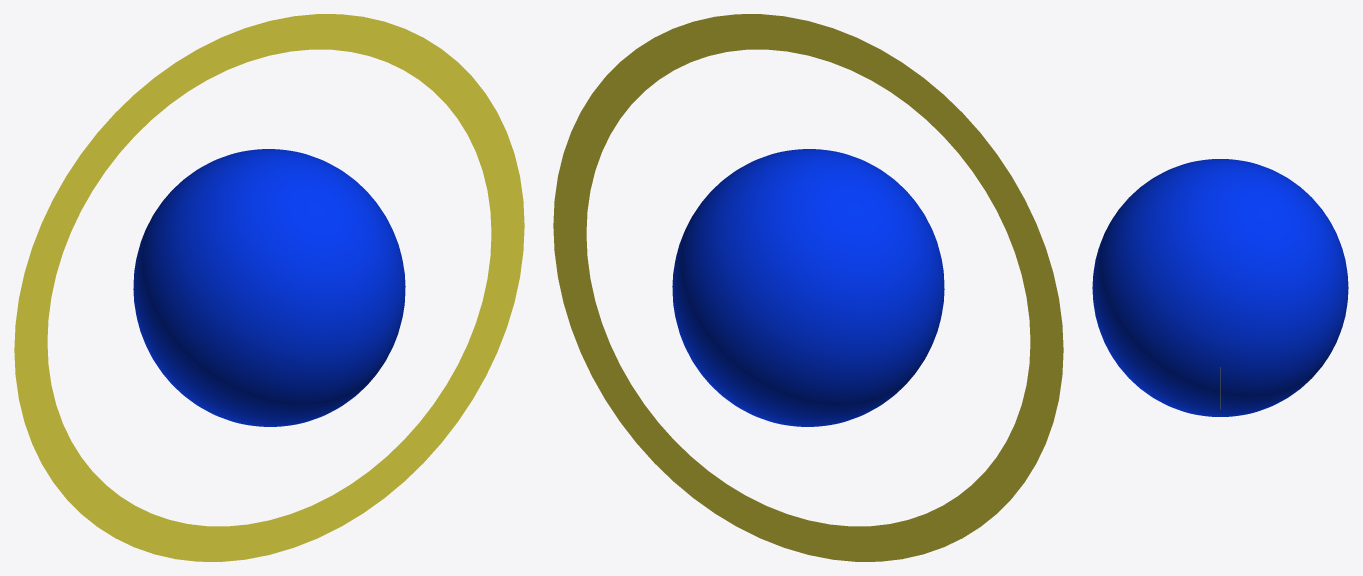
The model's file is uranus.fbx.
3 renders of one model, left to right at view 1: azimuth 30°, elevation 25°; view 2: azimuth 150°, elevation 25°; view 3: azimuth 270°, elevation 25°, orthographic. The views are drawn at different scales.
Visible parts, largest first — view 1: Uranus_clouds, Ring; view 2: Uranus_clouds, Ring; view 3: Uranus_clouds.
Boxes of the visible parts, left/top/right/bottom form: Uranus_clouds: left=133, top=149, right=405, bottom=426; Ring: left=14, top=14, right=524, bottom=561; Uranus_clouds: left=672, top=149, right=944, bottom=426; Ring: left=553, top=14, right=1063, bottom=561; Uranus_clouds: left=1092, top=159, right=1348, bottom=416.
Bounding box in the file's own units: 447 × 447 × 209.
